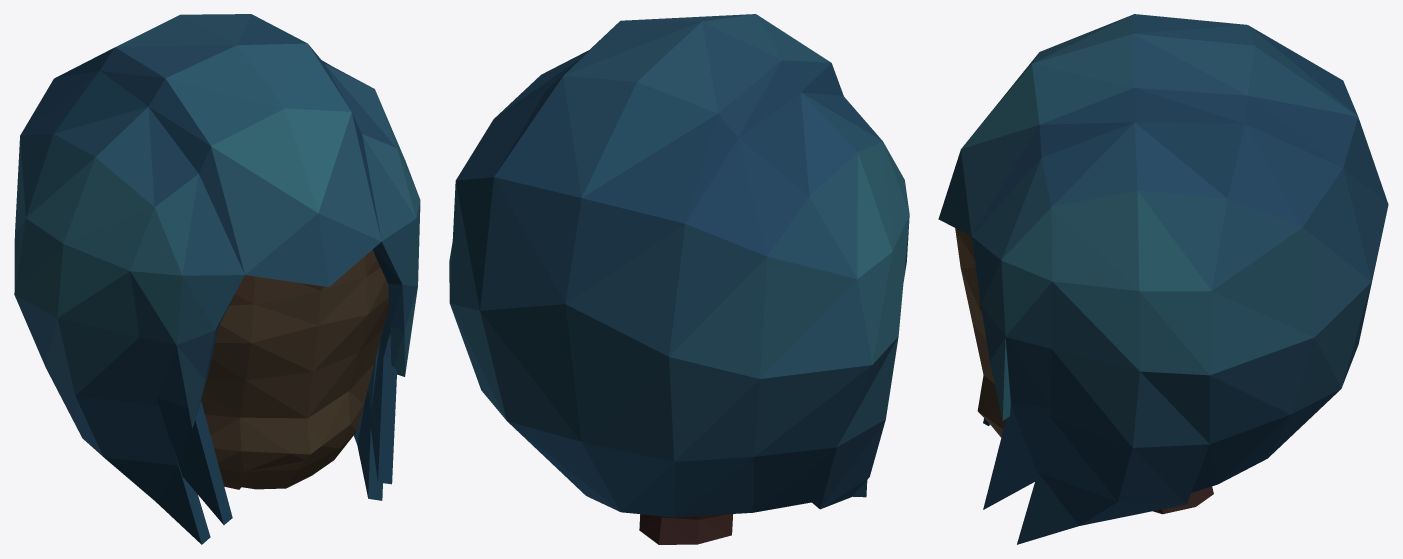
The model's file is helm_darkskin_bob_blue.fbx.
The picture shows the model from 3 angles, left to right: view 1: azimuth 30°, elevation 25°; view 2: azimuth 150°, elevation 25°; view 3: azimuth 270°, elevation 25°; orthographic projection. The views are drawn at different scales.
Visible parts, largest first — view 1: helm_darkskin_bob_blue; view 2: helm_darkskin_bob_blue; view 3: helm_darkskin_bob_blue.
Boxes of the visible parts, left/top/right/bottom form: helm_darkskin_bob_blue: left=14, top=14, right=420, bottom=544; helm_darkskin_bob_blue: left=449, top=14, right=909, bottom=544; helm_darkskin_bob_blue: left=938, top=14, right=1388, bottom=544.
Size of the model in its own units: 1.18 by 1.34 by 1.16.
